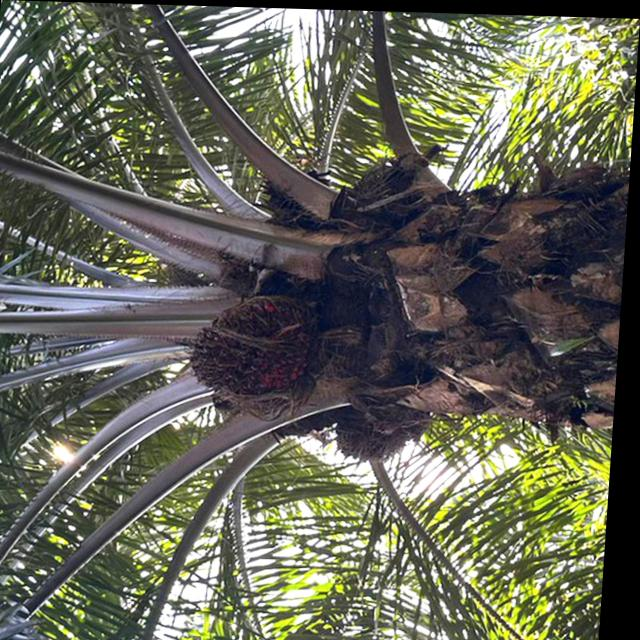ripe: (186, 288, 313, 405)
